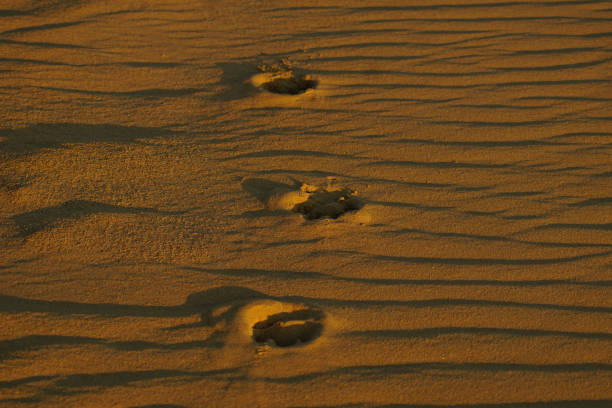animal_footprint: (252, 309, 323, 346), (292, 184, 362, 218), (251, 61, 317, 94)
